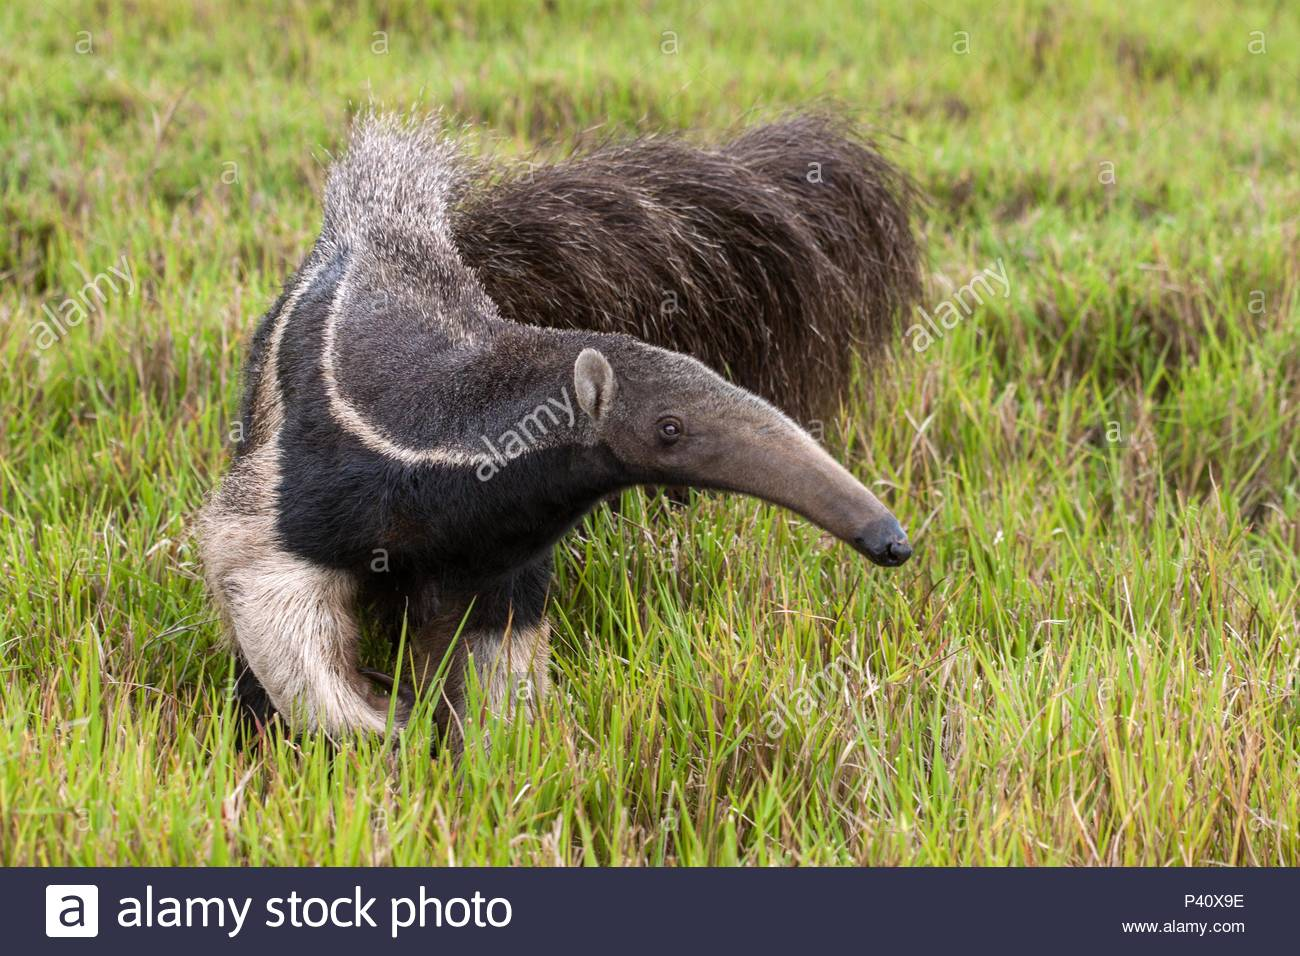TamanduaBandeira: (187, 88, 927, 760)
